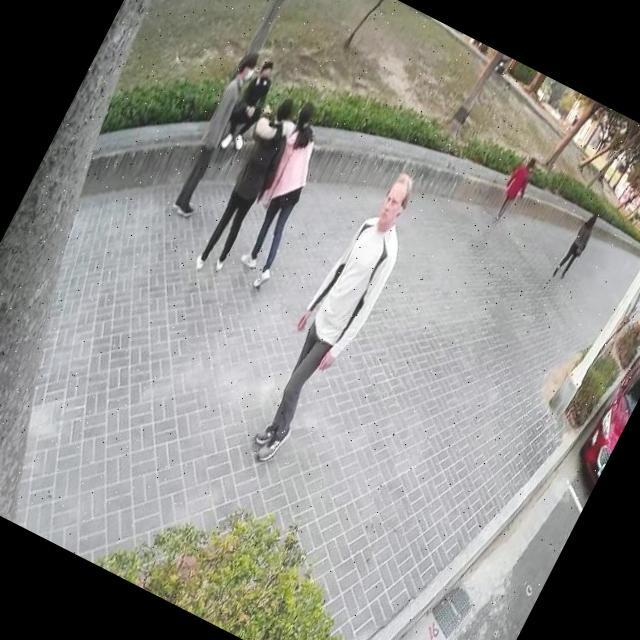person: (230, 150, 442, 478), (215, 90, 352, 293), (181, 82, 315, 286), (160, 44, 273, 224), (214, 53, 287, 159), (548, 198, 608, 288), (486, 148, 544, 233)
